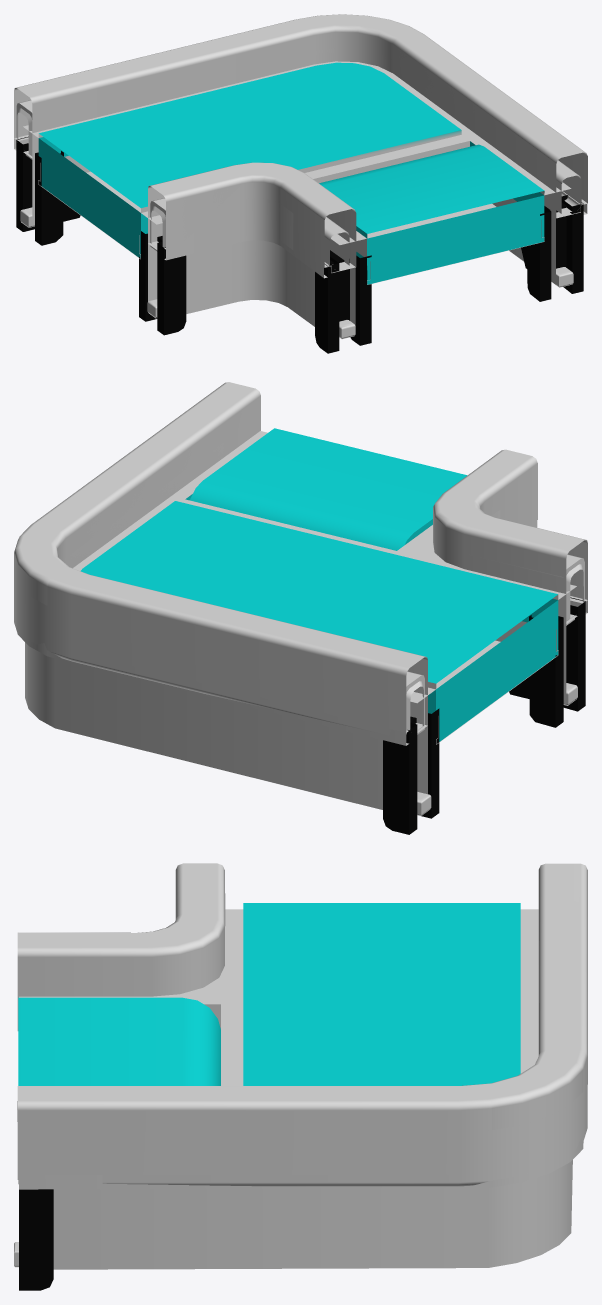
The model's file is BeltDefaultLeftInternalVariant.gltf.
3 views of the same model, one above another, from view 1: azimuth 30°, elevation 25°; view 2: azimuth 150°, elevation 25°; view 3: azimuth 270°, elevation 25° (orthographic). The views are drawn at different scales.
Parts seen in each view (by area): view 1: Belt_LeftCorner_Border_Layer0_LOD0, Belt_LeftCorner_LOD0, Belt_LeftCorner_Border_Layer1_LOD0, Belt_LeftCorner_Border_Layer2_LOD0; view 2: Belt_LeftCorner_LOD0, Belt_LeftCorner_Border_Layer0_LOD0, Belt_LeftCorner_Border_Layer1_LOD0, Belt_LeftCorner_Border_Layer2_LOD0; view 3: Belt_LeftCorner_LOD0, Belt_LeftCorner_Border_Layer0_LOD0, Belt_LeftCorner_Border_Layer1_LOD0, Belt_LeftCorner_Border_Layer2_LOD0.
Part boxes in pixels (x1,y1,x2,y2): Belt_LeftCorner_Border_Layer0_LOD0: (14,14,587,326); Belt_LeftCorner_LOD0: (23,61,571,256); Belt_LeftCorner_Border_Layer1_LOD0: (14,15,587,353); Belt_LeftCorner_Border_Layer2_LOD0: (16,48,581,284); Belt_LeftCorner_LOD0: (73,428,576,703); Belt_LeftCorner_Border_Layer0_LOD0: (14,382,587,809); Belt_LeftCorner_Border_Layer1_LOD0: (20,382,587,834); Belt_LeftCorner_Border_Layer2_LOD0: (14,443,584,744); Belt_LeftCorner_LOD0: (18,903,538,1085); Belt_LeftCorner_Border_Layer0_LOD0: (18,863,583,1269); Belt_LeftCorner_Border_Layer1_LOD0: (14,864,587,1290); Belt_LeftCorner_Border_Layer2_LOD0: (18,893,587,1186).
Size of the model in its own units: 0.7911 by 0.2874 by 0.7908.
